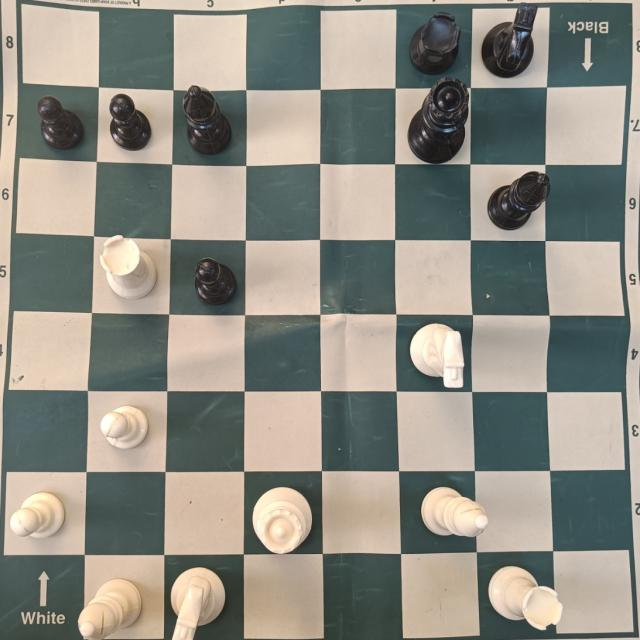black-bishop: (488, 169, 550, 232), (182, 84, 235, 154)
black-knight: (483, 3, 538, 77)
black-pawn: (36, 95, 86, 152), (107, 93, 153, 152), (197, 259, 237, 303)
black-queen: (408, 77, 469, 165)
black-rook: (409, 13, 462, 71)
board: (1, 0, 640, 640)
white-bishop: (80, 578, 141, 639), (420, 484, 489, 537)
white-knight: (171, 566, 228, 640), (410, 321, 465, 388)
white-pawn: (11, 491, 65, 542), (100, 402, 151, 451)
white-queen: (252, 486, 313, 552)
white-rook: (488, 562, 562, 631), (100, 236, 158, 299)
